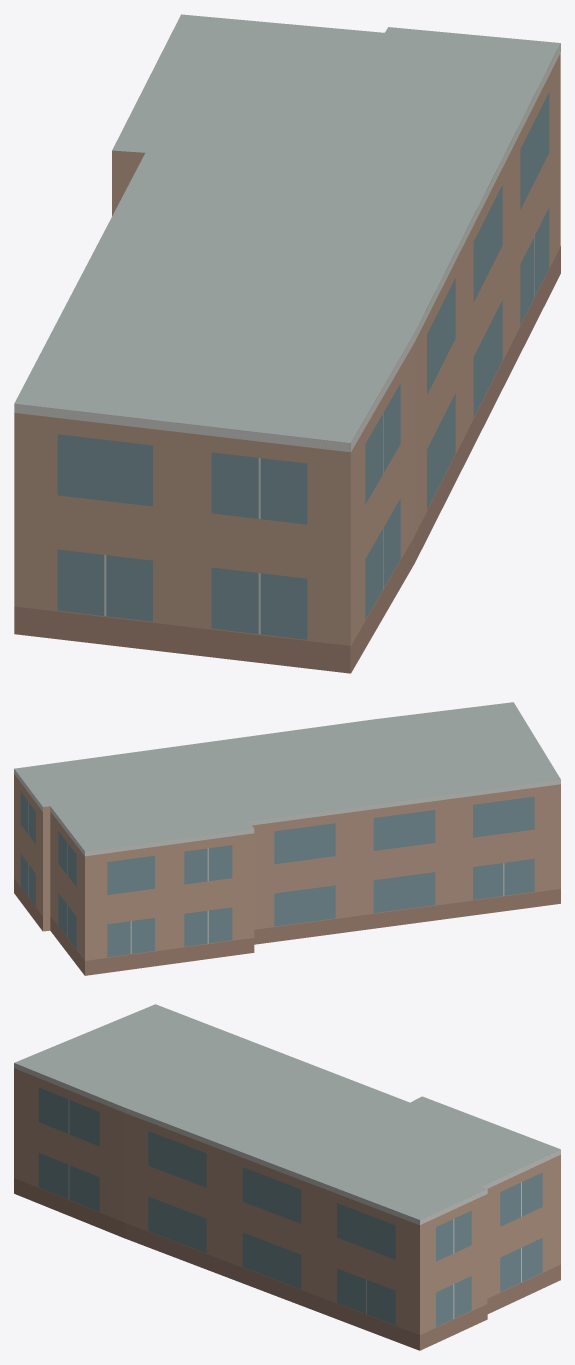
Rendered from survey-upis-32722575.glb.
3 views of the same model, one above another, from view 1: azimuth 30°, elevation 25°; view 2: azimuth 150°, elevation 25°; view 3: azimuth 270°, elevation 25° (orthographic). The views are drawn at different scales.
Visible parts, largest first — view 1: survey-upis-32722575.tmp; view 2: survey-upis-32722575.tmp; view 3: survey-upis-32722575.tmp.
Part boxes in pixels (left/top/right/bottom): survey-upis-32722575.tmp: left=14, top=14, right=560, bottom=673; survey-upis-32722575.tmp: left=14, top=702, right=560, bottom=975; survey-upis-32722575.tmp: left=14, top=1004, right=560, bottom=1350.
Size of the model in its own units: 21.61 by 6.1 by 23.13.
